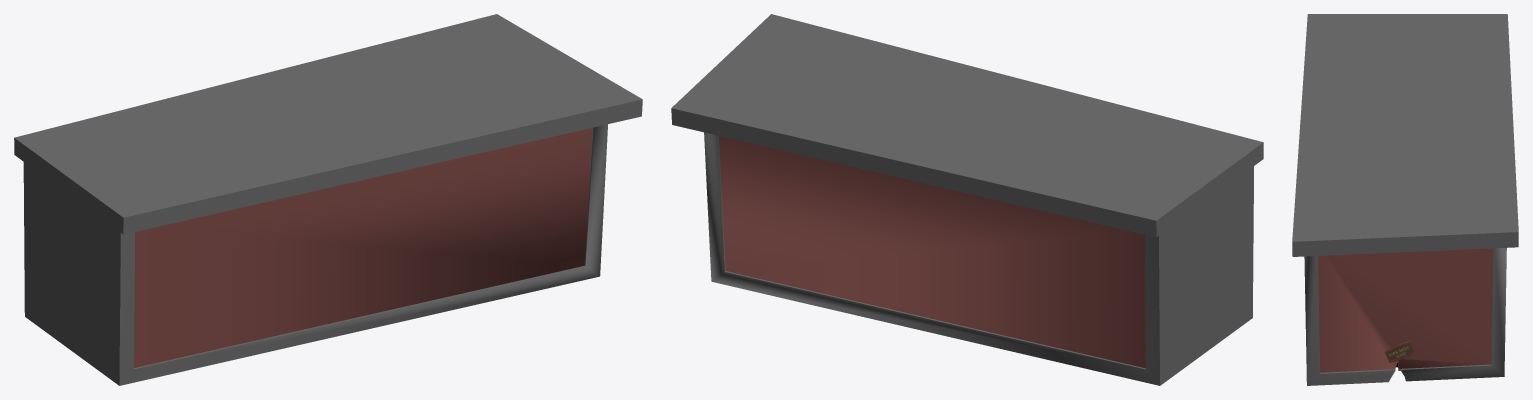
Rendered from Counter.glb.
The picture shows the model from 3 angles, left to right: view 1: azimuth 30°, elevation 25°; view 2: azimuth 150°, elevation 25°; view 3: azimuth 270°, elevation 25°; orthographic projection. The views are drawn at different scales.
Visible parts, largest first — view 1: Cube.010; view 2: Cube.010; view 3: Cube.010.
Boxes of the visible parts, x1,y1,x2,y2 form: Cube.010: [14, 14, 642, 385]; Cube.010: [671, 14, 1263, 385]; Cube.010: [1292, 14, 1518, 385].
Bounding box in the file's own units: 2.34 × 0.7648 × 0.9825.
Materials: 6 (2 with a texture image).
